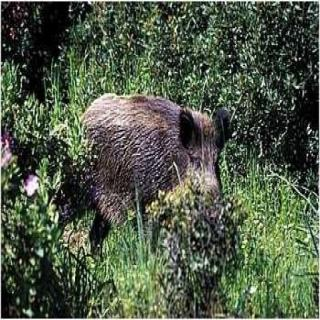Pig: (62, 82, 229, 263)
